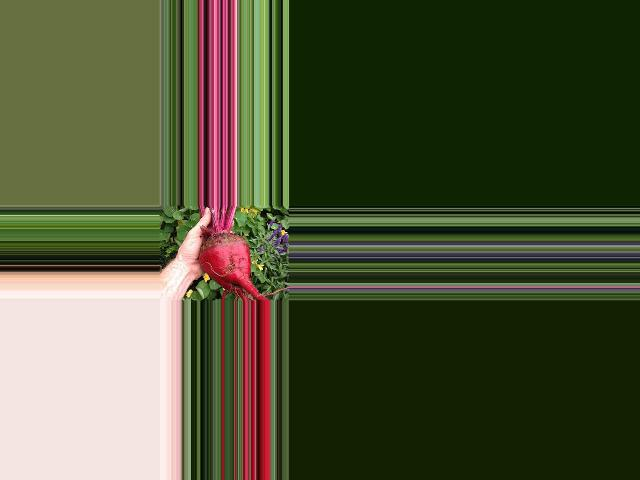beet: (199, 206, 269, 301)
